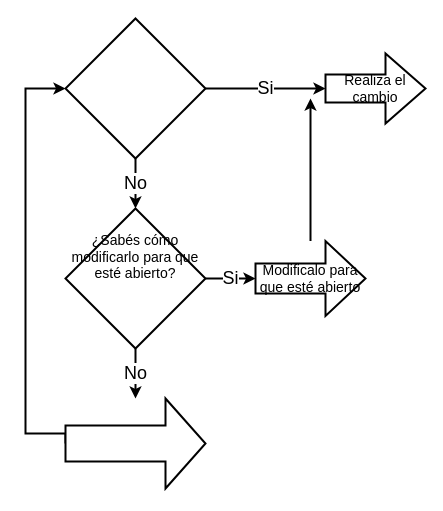
Image size: 443x511. Some labels were removed from this diagram. The centre of each missing label's shape, as x and y in pixels:
"Eliminá el code smell que sea más sencillo de quitar o que mejor entiendas." belongs at point (135, 443).
"¿Está abierto?" belongs at point (135, 88).
